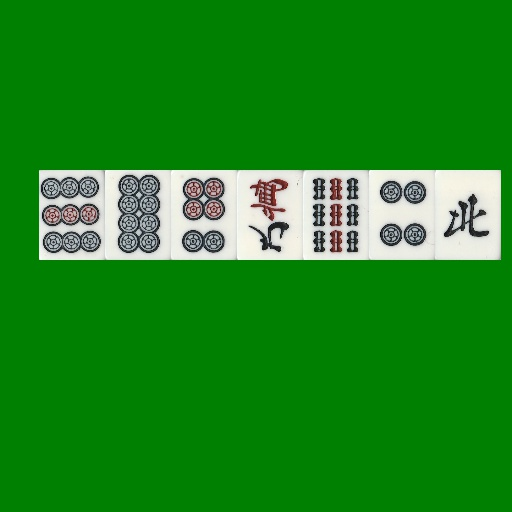4p: (369, 170, 435, 260)
6p: (171, 170, 237, 260)
8p: (105, 170, 171, 260)
9m: (237, 170, 303, 260)
9p: (39, 170, 105, 260)
9s: (303, 170, 369, 260)
north: (435, 170, 501, 260)
